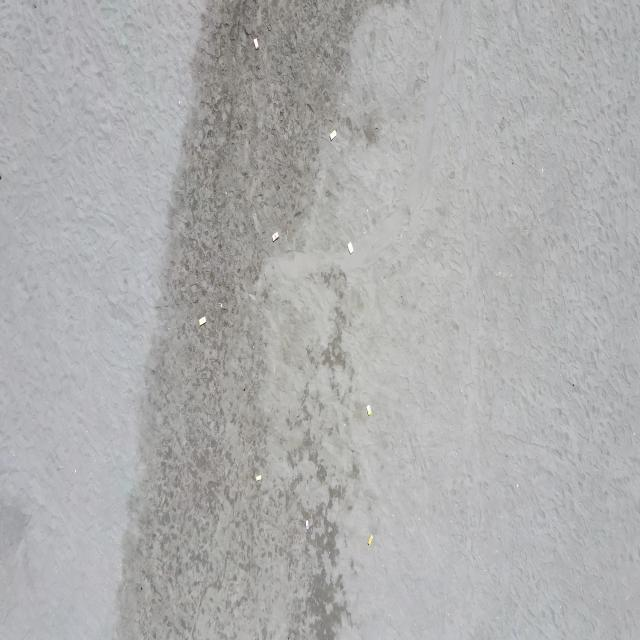retort-pouch: (198, 314, 207, 328), (346, 241, 354, 256), (271, 229, 279, 244), (329, 129, 337, 142), (253, 37, 260, 51), (367, 533, 374, 547), (366, 404, 372, 416), (305, 519, 310, 531), (256, 473, 262, 483)
